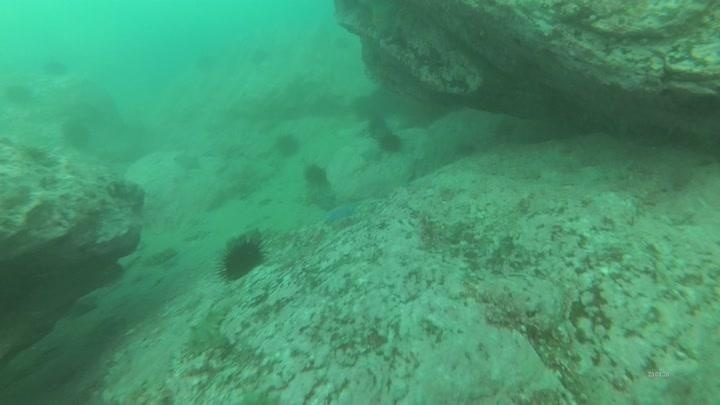echinus: (215, 232, 267, 281), (60, 118, 94, 151), (273, 131, 303, 160), (3, 81, 35, 108), (301, 162, 331, 190), (185, 52, 218, 77), (376, 130, 406, 156), (41, 57, 70, 80), (249, 46, 272, 67)
holothurian: (181, 303, 231, 362), (145, 243, 178, 264)
starfish: (321, 200, 361, 225), (172, 150, 204, 174)
